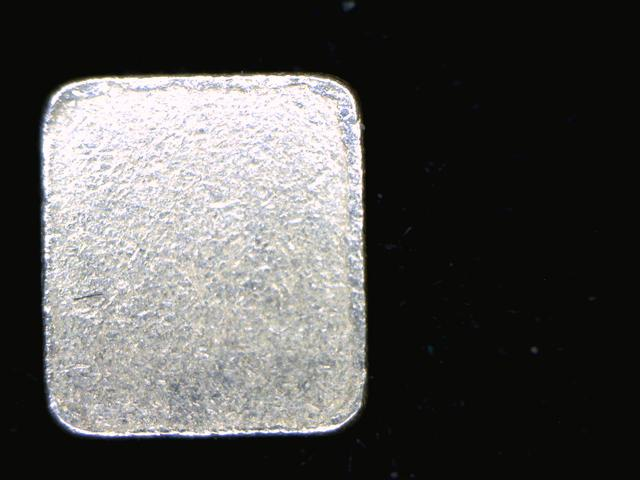ok: (39, 71, 381, 436)
